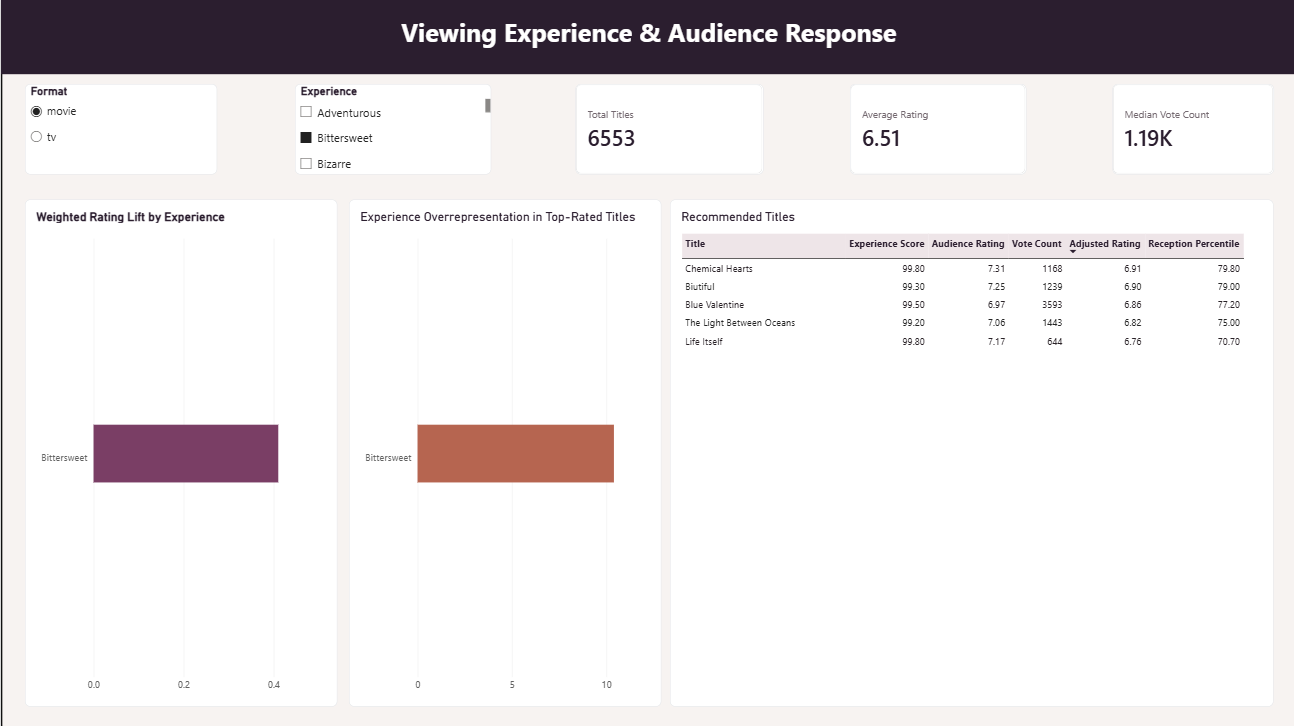

The page's visual inventory and layout, read from the dashboard file:
{"tool":"powerbi","page":{"name":"Audience Response","canvas":[1920,1080],"ordinal":0},"visuals":[{"type":"shape","box":[0,0,1918.2,109.9],"z":0},{"type":"slicer","fields":{"Values":["Media Type.media_type"]},"box":[36.5,124,284.5,134.2],"z":1000},{"type":"slicer","fields":{"Values":["Experience.experience"]},"box":[434.8,124,290.3,134.2],"z":2000},{"type":"cardVisual","fields":{"Data":["Metrics.Total Titles"]},"box":[852,124,278.7,134.2],"z":3000},{"type":"cardVisual","fields":{"Data":["Metrics.Average Rating"]},"box":[1257.6,124,261.2,134.2],"z":4000},{"type":"cardVisual","fields":{"Data":["Metrics.Median Vote Count"]},"box":[1645.7,124,239.3,134.2],"z":5000},{"type":"clusteredBarChart","title":"Weighted Rating Lift by Experience","fields":{"Category":["Experience.experience"],"Y":["Metrics.Weighted Rating Lift"]},"box":[36.5,296.2,462.5,751.4],"z":6000},{"type":"clusteredBarChart","title":"Experience Overrepresentation in Top-Rated Titles","fields":{"Category":["Experience.experience"],"Y":["Metrics.Overrepresentation"]},"box":[514.7,296.6,462.5,751.4],"z":7000},{"type":"tableEx","title":"Recommended Titles","fields":{"Values":["recommendations.title","Metrics.Recommended Experience Score","Metrics.Recommended Audience Rating","Metrics.Recommended Vote Count","Metrics.Recommended Adjusted Rating","Metrics.Recommended Reception Percentile"]},"box":[990.9,296.6,893.8,751.5],"z":8000},{"type":"textbox","box":[36.5,21.9,1848.5,86.1],"z":9000}]}

Visuals, with their boxes in screenshot pixels (x1, y1, x2, y2), scaled from the page's 1920x1080 canvas onto the 1294x726 screenshot:
shape: BBox(0, 0, 1293, 74)
slicer - Media Type.media_type: BBox(25, 83, 216, 174)
slicer - Experience.experience: BBox(293, 83, 489, 174)
cardVisual - Metrics.Total Titles: BBox(574, 83, 762, 174)
cardVisual - Metrics.Average Rating: BBox(848, 83, 1024, 174)
cardVisual - Metrics.Median Vote Count: BBox(1109, 83, 1270, 174)
"Weighted Rating Lift by Experience" clusteredBarChart: BBox(25, 199, 336, 704)
"Experience Overrepresentation in Top-Rated Titles" clusteredBarChart: BBox(347, 199, 659, 704)
"Recommended Titles" tableEx: BBox(668, 199, 1270, 705)
textbox: BBox(25, 15, 1270, 73)
